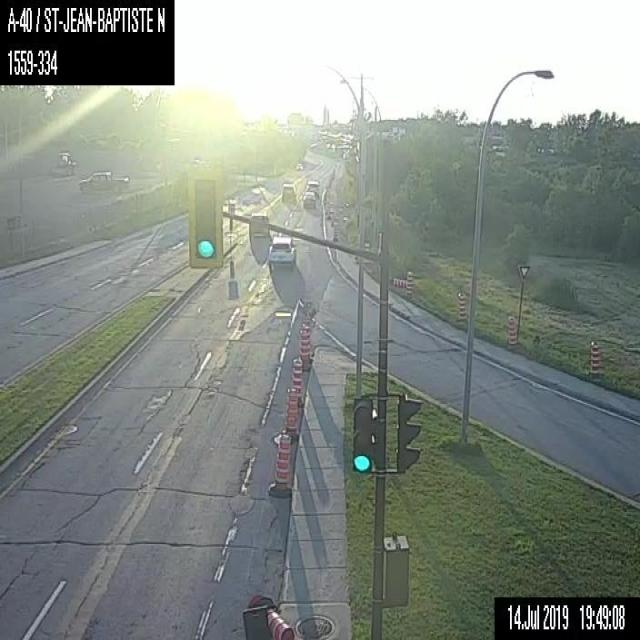construction: (241, 593, 294, 639), (266, 432, 290, 495), (284, 385, 298, 436), (587, 337, 598, 379), (292, 357, 302, 400), (300, 323, 310, 362), (507, 313, 518, 347), (406, 270, 414, 300), (456, 291, 464, 321), (363, 238, 371, 260), (392, 277, 407, 286), (333, 221, 338, 239)
vehicle: (78, 169, 127, 192), (268, 236, 294, 268), (50, 151, 76, 176), (248, 211, 267, 237), (281, 180, 296, 203), (304, 179, 319, 198), (303, 190, 316, 208), (296, 162, 302, 169)
